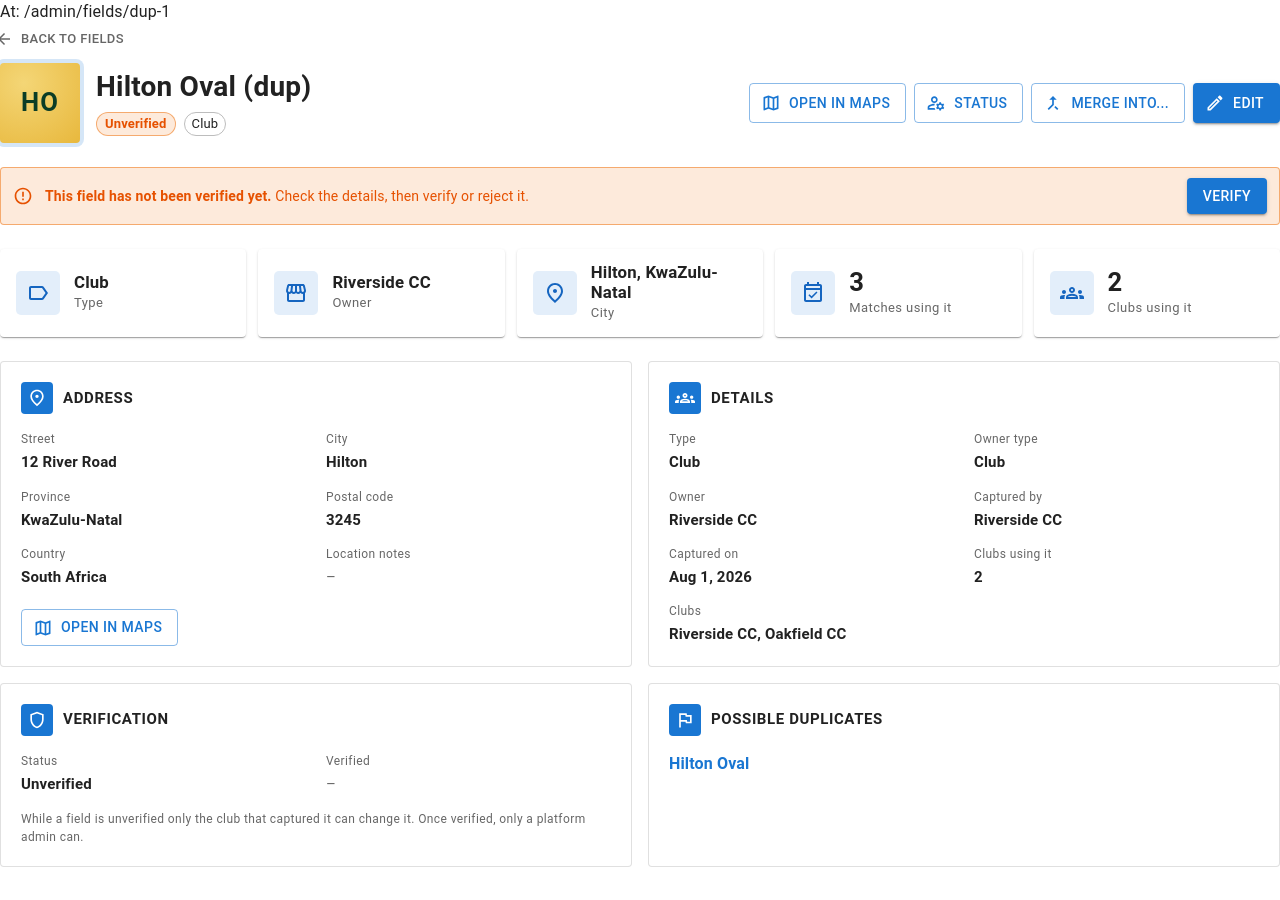
AdminFieldDetailPage › Merge into... › confirming merges the field into the chosen one and opens the one that stays
The image size is (1280, 900).
Expected: the heading "Hilton Oval (dup)" is shown, [96, 70, 311, 104]
Click the button "Merge into..." at (1108, 103), box [1031, 83, 1185, 123]
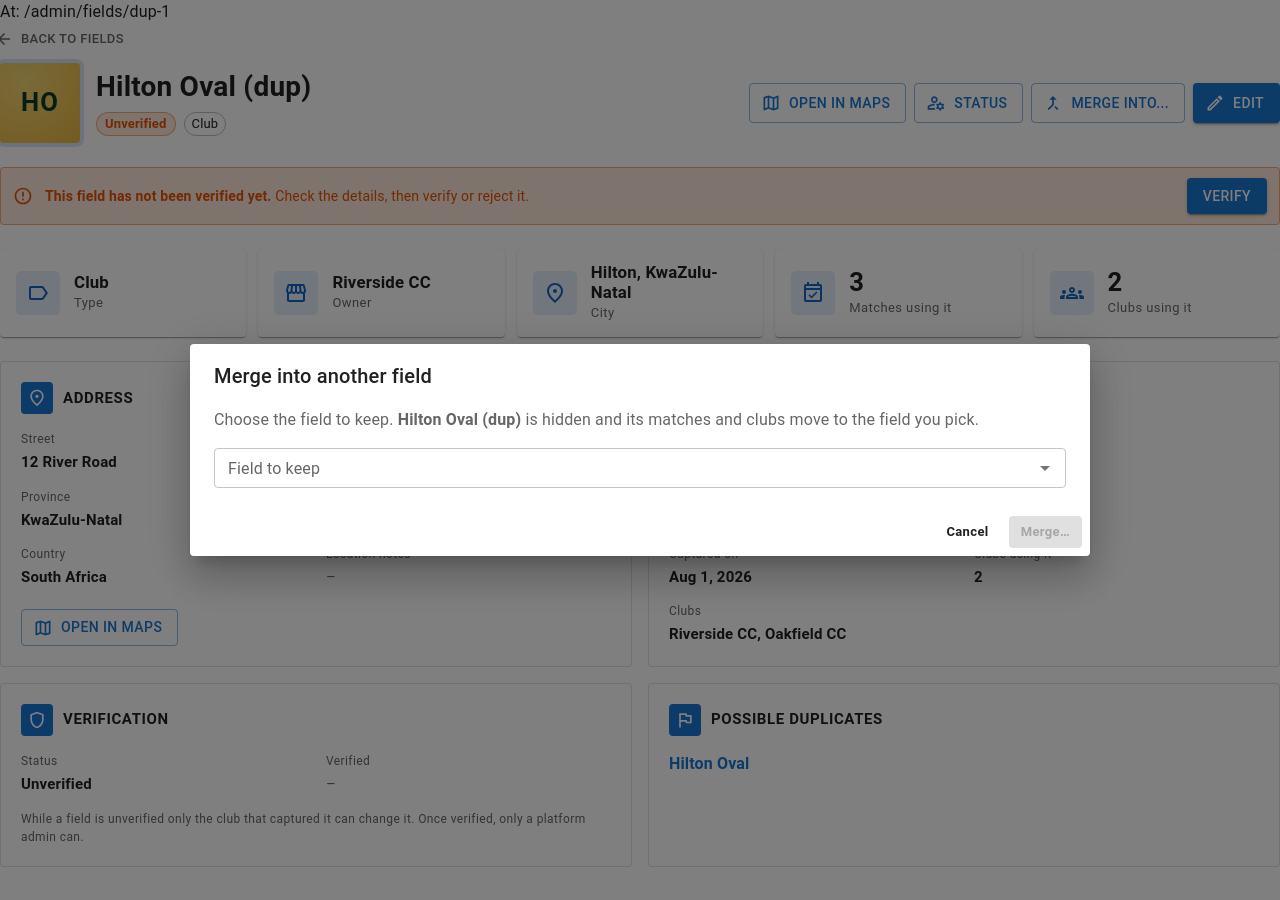
Click the dropdown labelled "Field to keep" at (624, 468), box [220, 454, 1027, 482]
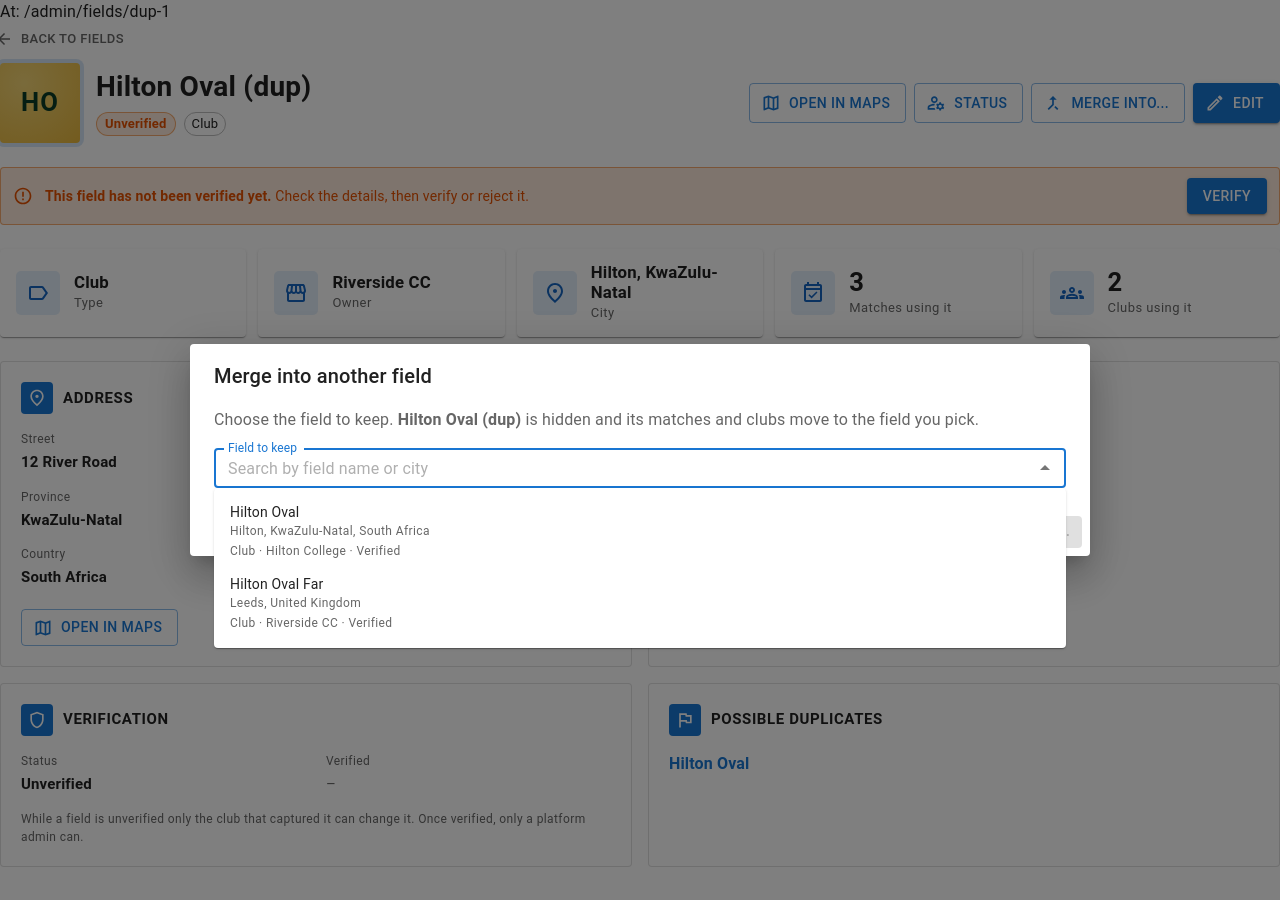
Click the 1st option at (330, 531), box [230, 504, 430, 558]
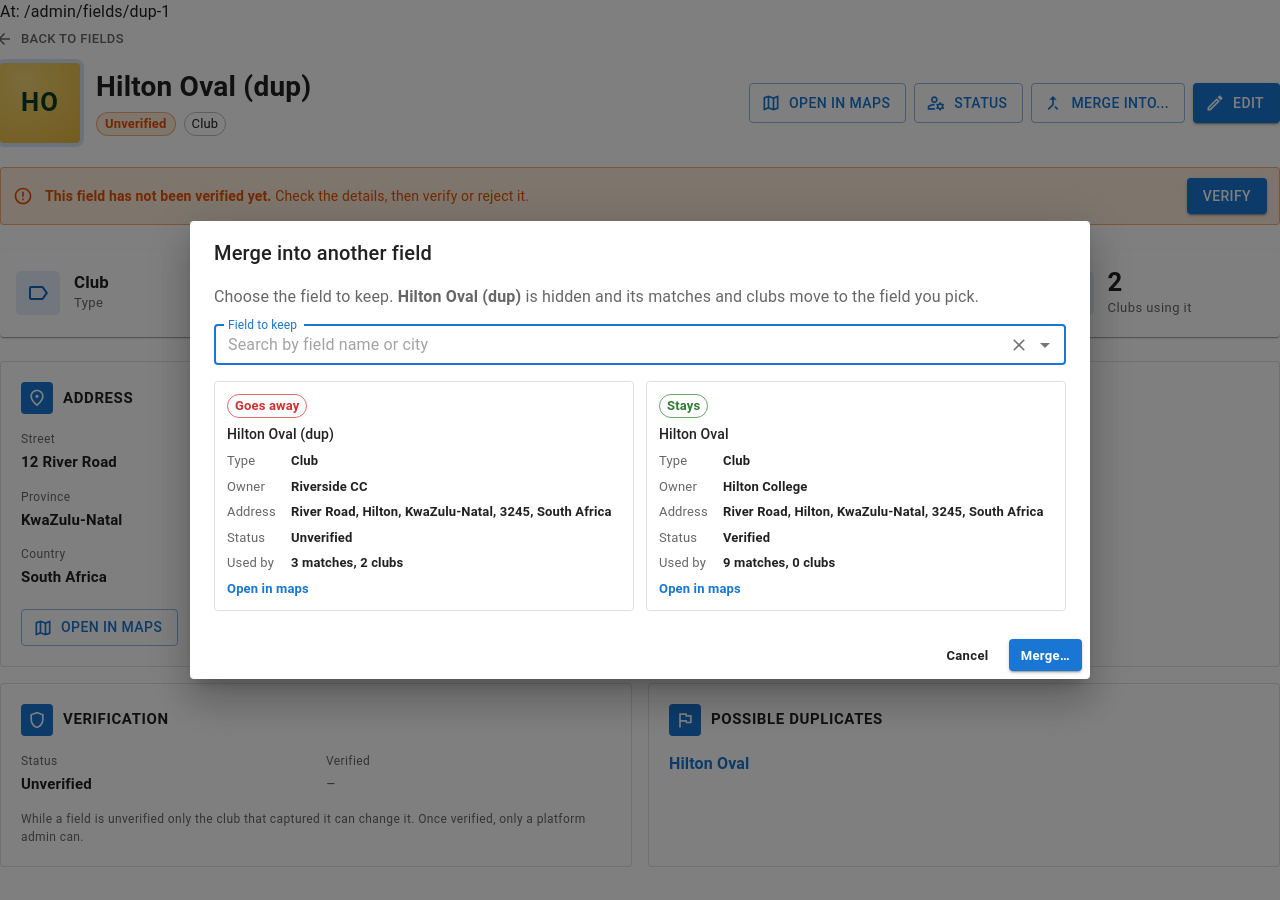
Click the button "Merge…" at (1045, 656), box [1009, 640, 1082, 672]
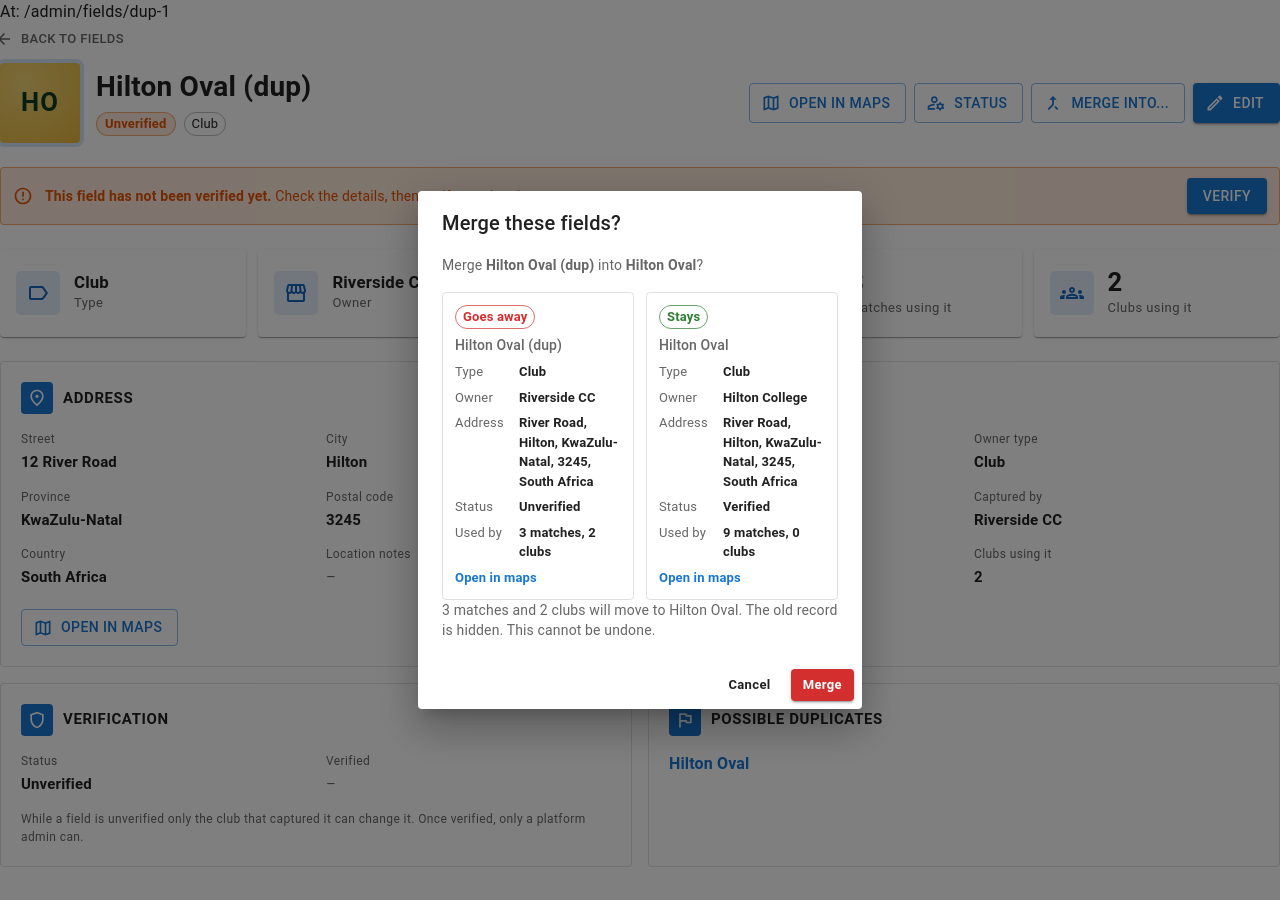
Click the button "Merge" at (822, 684), box [791, 668, 854, 700]
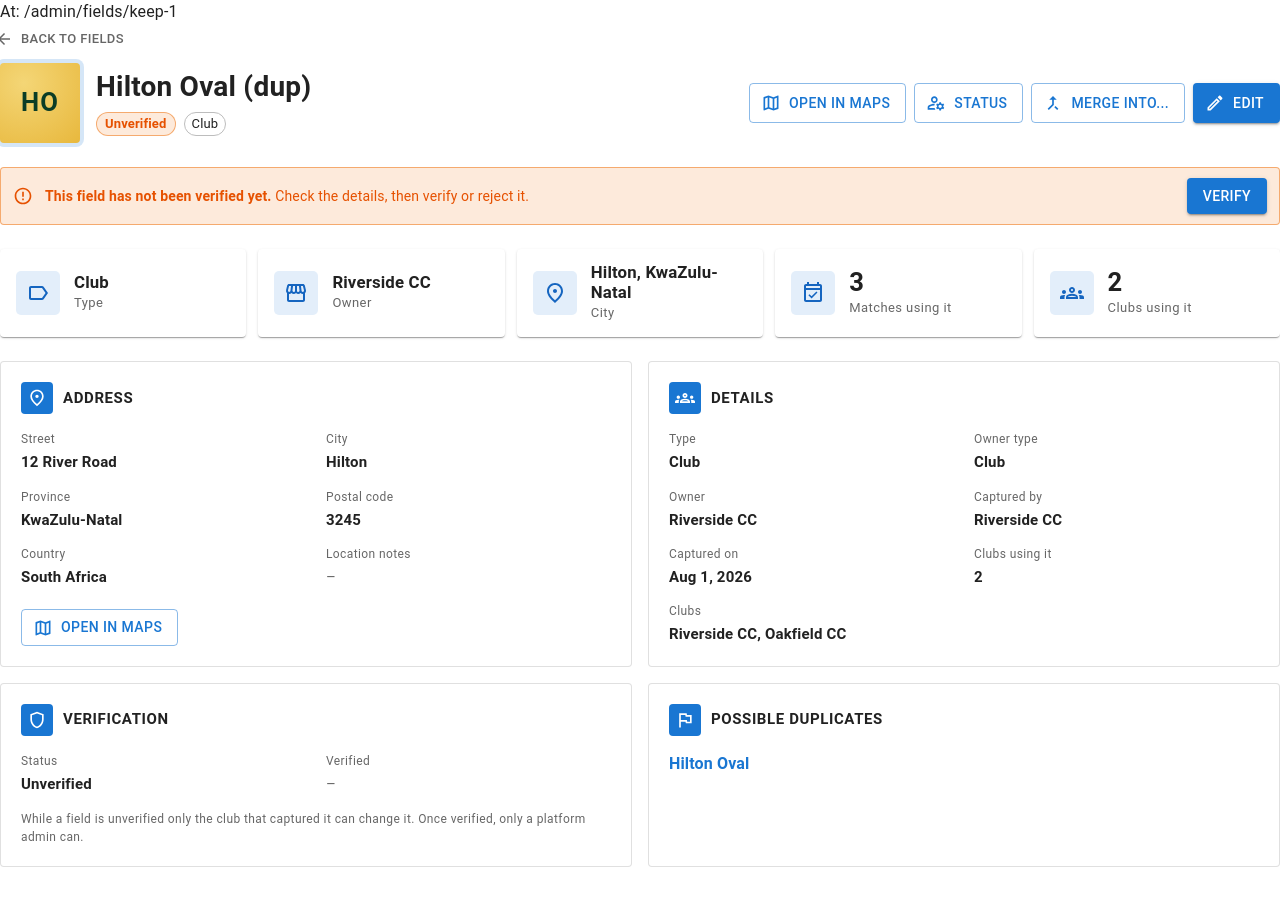
Expected: the text "At: /admin/fields/keep-1" is shown, [0, 2, 178, 21]
